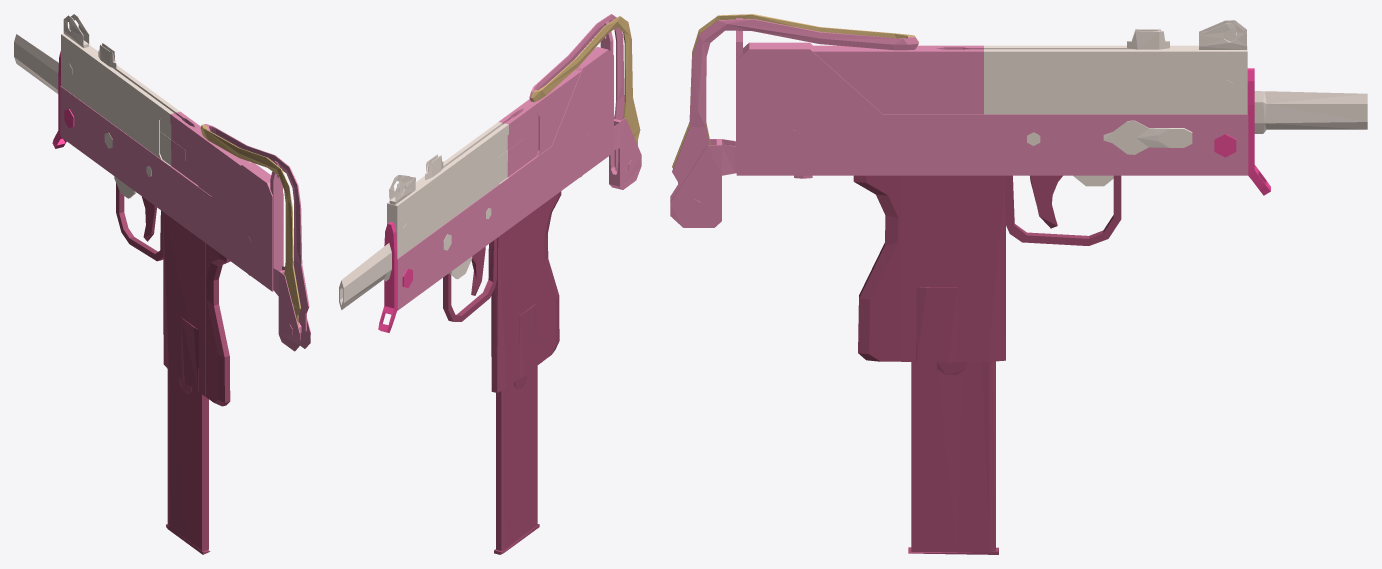
Rendered from MachinePistol_MAC10.obj.
3 views of the same model, side by side, from view 1: azimuth 30°, elevation 25°; view 2: azimuth 150°, elevation 25°; view 3: azimuth 270°, elevation 25° (orthographic). The views are drawn at different scales.
Visible parts, largest first — view 1: Body, Mag, Panel, Grip, Bolt, Accent; view 2: Body, Mag, Panel, Bolt, Grip, Accent; view 3: Body, Mag, Panel, Grip, Accent, Bolt.
Boxes of the visible parts, box(x1,y1,x2,y2) form: Body: box(60, 86, 310, 351); Mag: box(116, 183, 210, 554); Panel: box(14, 14, 179, 198); Grip: box(205, 243, 230, 406); Bolt: box(200, 124, 300, 325); Accent: box(52, 51, 74, 148); Body: box(397, 14, 641, 310); Mag: box(443, 204, 543, 554); Panel: box(339, 122, 508, 309); Bolt: box(531, 16, 640, 145); Grip: box(543, 191, 561, 360); Accent: box(378, 222, 412, 332); Body: box(670, 18, 1248, 227); Mag: box(901, 175, 1121, 554); Panel: box(984, 20, 1367, 186); Grip: box(853, 175, 901, 361); Accent: box(1214, 68, 1270, 195); Bolt: box(672, 14, 918, 168).
Bounding box in the file's own units: 0.0465 × 1.44 × 1.7.
